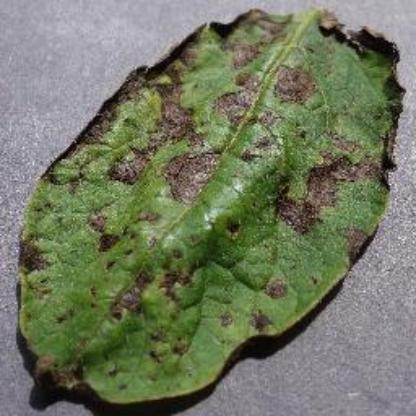Early-Blight: (13, 0, 411, 416)
